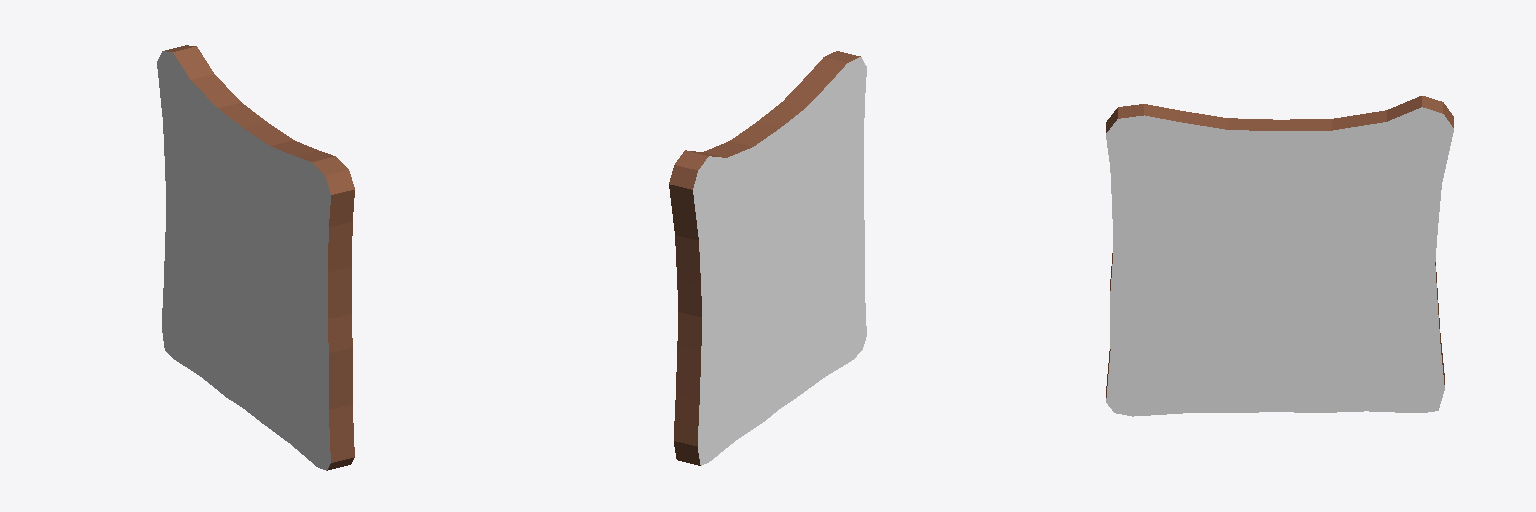
The model's file is kitchen_toast.obj.
3 views of the same model, side by side, from view 1: azimuth 30°, elevation 25°; view 2: azimuth 150°, elevation 25°; view 3: azimuth 270°, elevation 25° (orthographic).
Visible parts, largest first — view 1: Cylinder_4, Cylinder_4_1; view 2: Cylinder_4, Cylinder_4_1; view 3: Cylinder_4, Cylinder_4_1.
Boxes of the visible parts, box(x1,y1,x2,y2) form: Cylinder_4: box(157, 51, 330, 470); Cylinder_4_1: box(165, 45, 354, 470); Cylinder_4: box(693, 57, 866, 465); Cylinder_4_1: box(669, 51, 860, 465); Cylinder_4: box(1106, 107, 1453, 416); Cylinder_4_1: box(1106, 96, 1453, 397).
Bounding box in the file's own units: 0.1571 × 1.94 × 1.98.